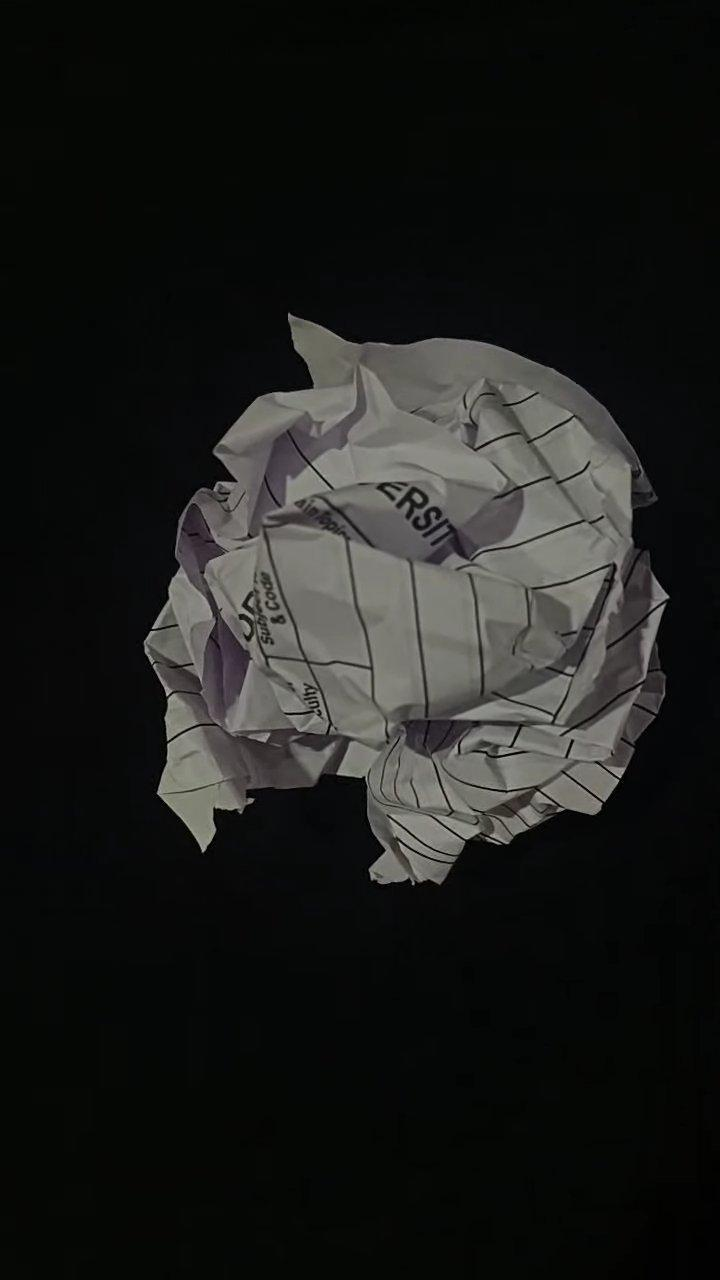PaperBall: (146, 317, 666, 881)
